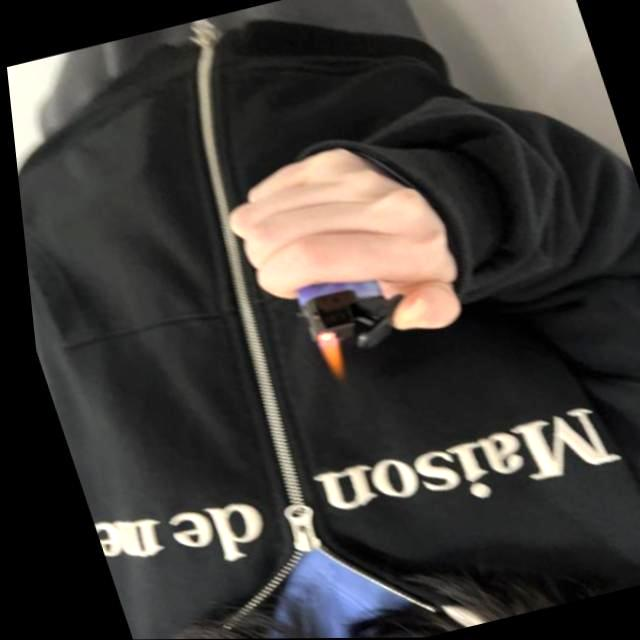fire: (302, 326, 344, 379)
